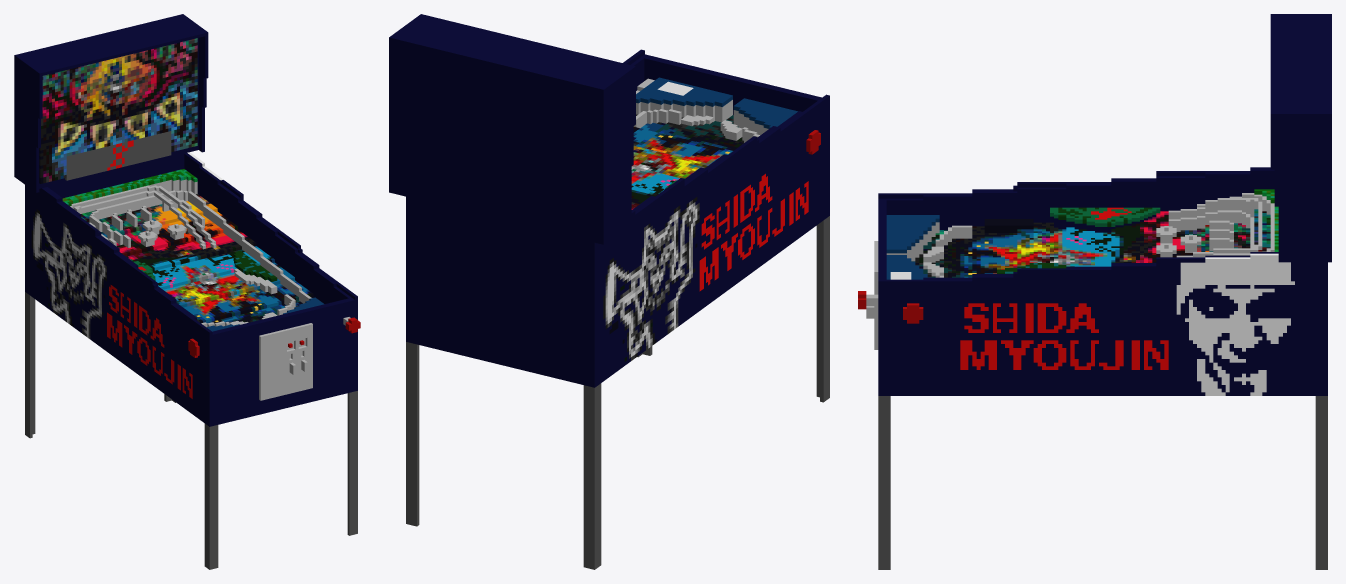
File: pinball_machine.glb
The picture shows the model from 3 angles, left to right: view 1: azimuth 30°, elevation 25°; view 2: azimuth 150°, elevation 25°; view 3: azimuth 270°, elevation 25°; orthographic projection. The views are drawn at different scales.
Visible parts, largest first — view 1: Object_2; view 2: Object_2; view 3: Object_2.
Part boxes in pixels (box(x1,y1,x2,y2)): Object_2: box(14, 14, 360, 569); Object_2: box(389, 14, 829, 569); Object_2: box(858, 14, 1331, 569).
Bounding box in the file's own units: 5.8 × 12.5 × 11.6.
1 material, 1 textured.
